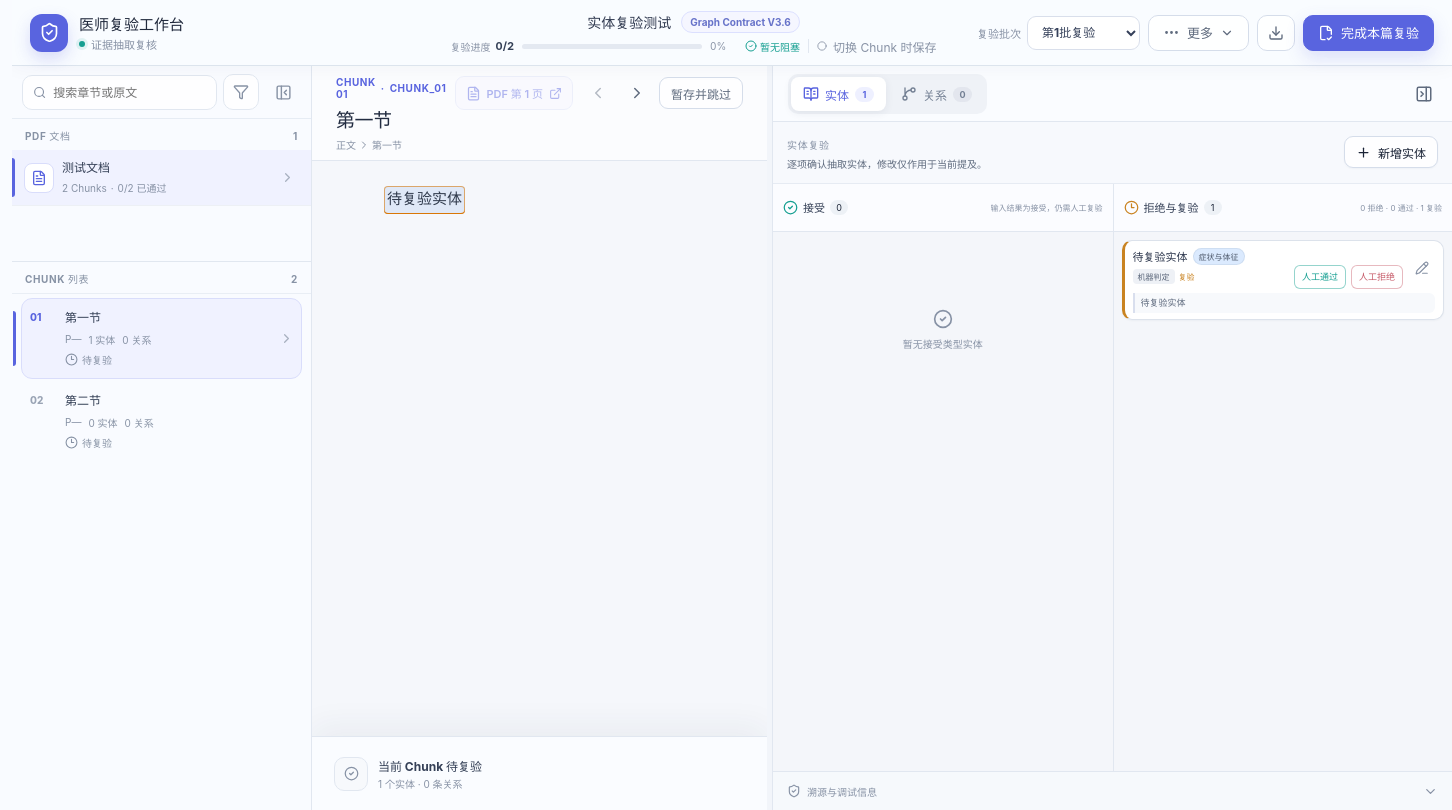
Test: KnowledgeReviewView entity persistence › restores the previous Chunk when the target Chunk fails to load
This screenshot has width=1452, height=810.
Click the button with class "chunk-row" showing "02 第二节 P— 0 实体 0 关系 待复验": (83, 400) [21,381,302,462]
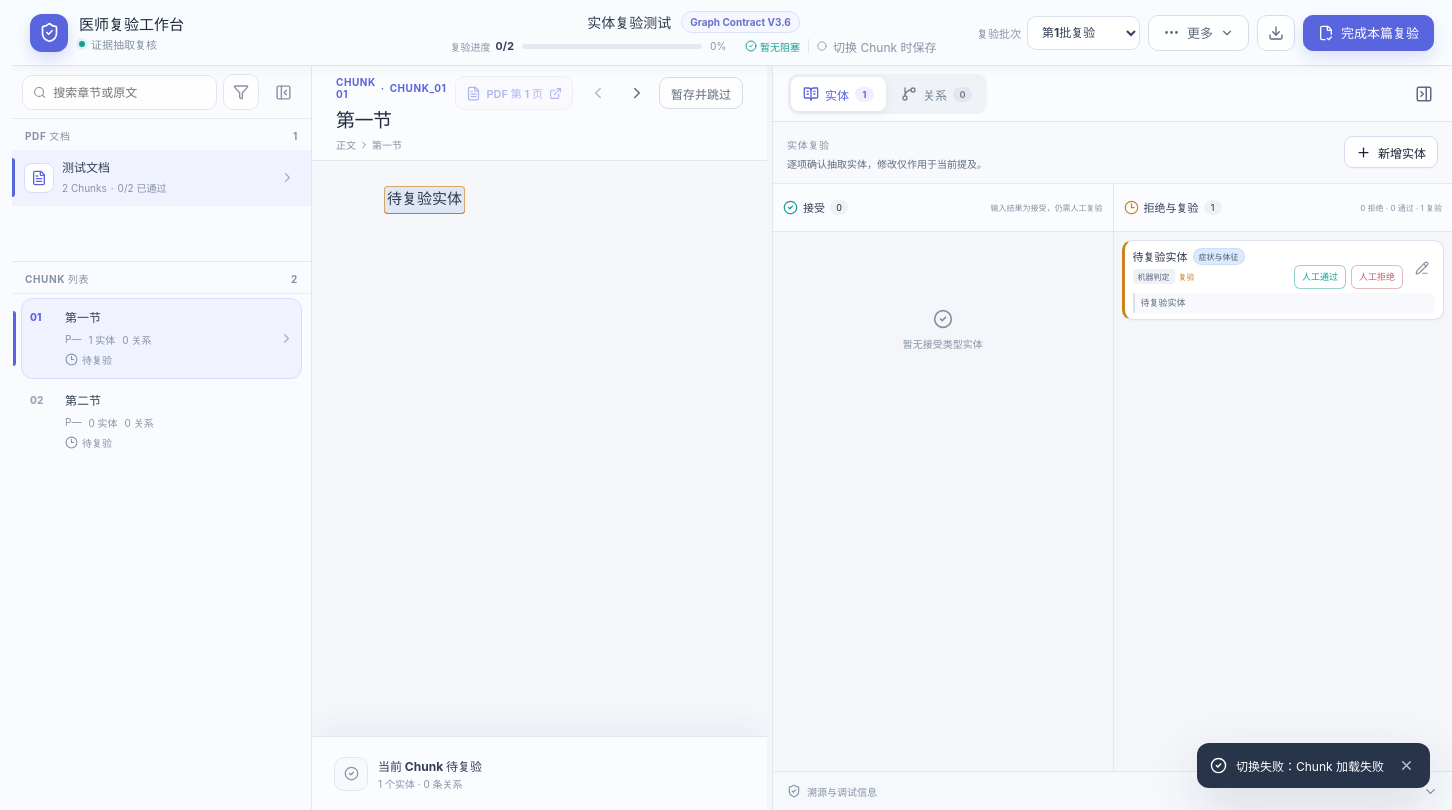
Expected: the text "待复验实体" is shown, [384,186,465,214]
Now the text "切换失败：Chunk 加载失败" is shown, box [1236,757,1384,774]
